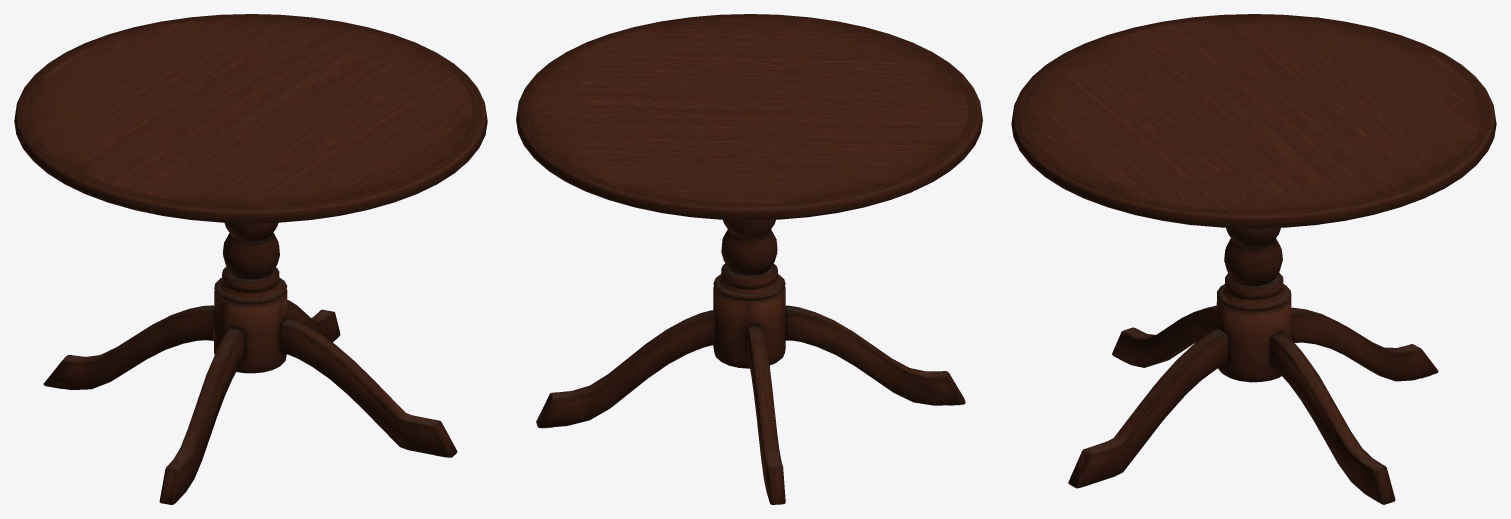
The model's file is ph_round_table.glb.
The picture shows the model from 3 angles, left to right: view 1: azimuth 30°, elevation 25°; view 2: azimuth 150°, elevation 25°; view 3: azimuth 270°, elevation 25°; orthographic projection. The views are drawn at different scales.
Parts seen in each view (by area): view 1: round_wooden_table_01; view 2: round_wooden_table_01; view 3: round_wooden_table_01.
Boxes of the visible parts, x1,y1,x2,y2 form: round_wooden_table_01: (14, 14, 487, 504); round_wooden_table_01: (516, 14, 982, 504); round_wooden_table_01: (1011, 14, 1496, 504).
Size of the model in its own units: 1.04 by 0.7497 by 1.04.
Materials: 1 (1 with a texture image).
